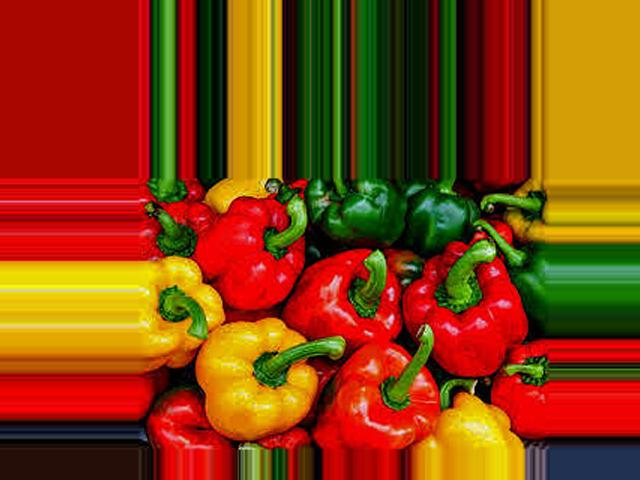bell_pepper: (438, 396, 509, 451)
